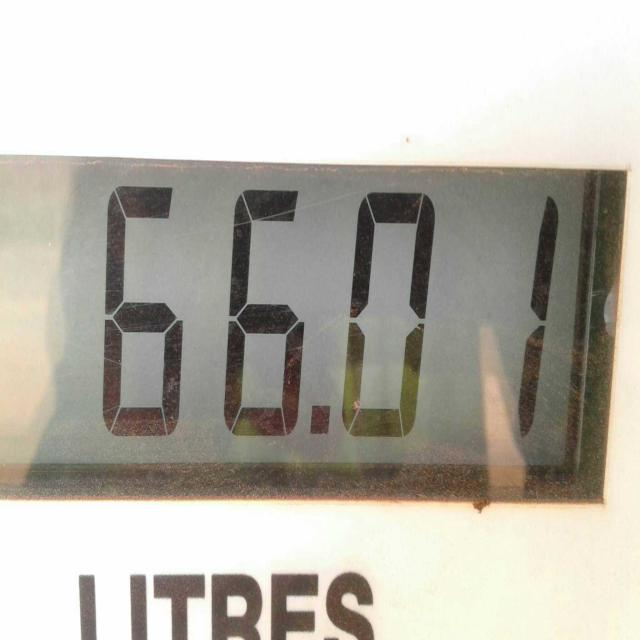.: (301, 387, 343, 457)
0: (336, 186, 448, 440)
1: (489, 178, 567, 458)
6: (72, 186, 215, 465), (211, 176, 305, 461)
